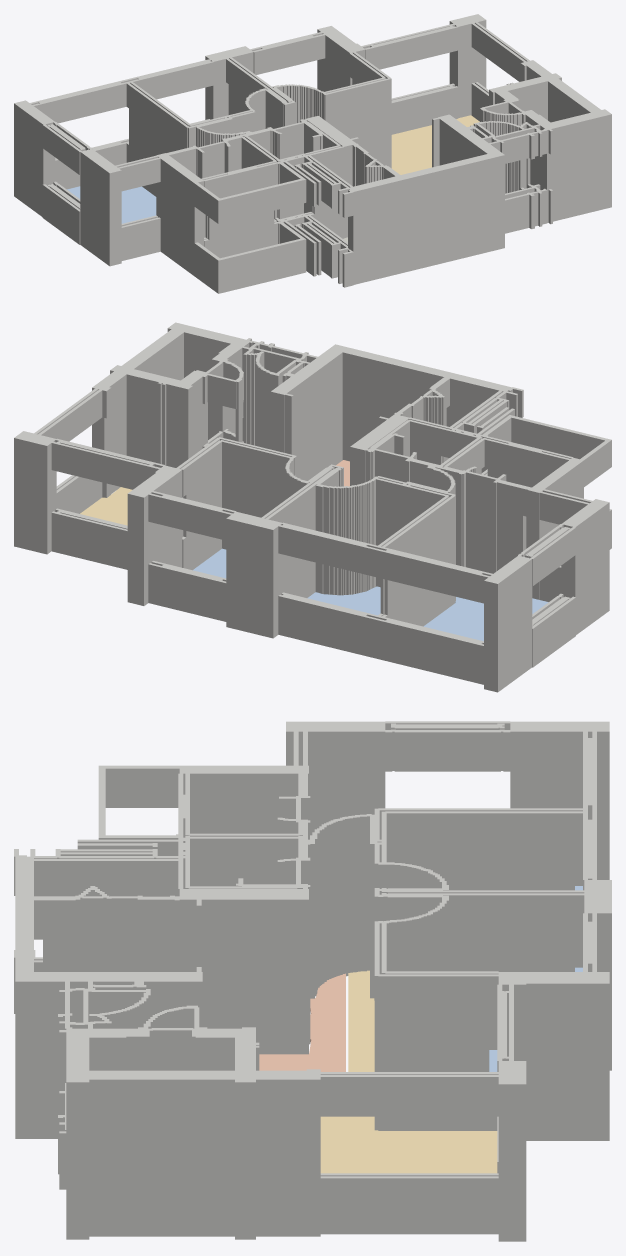
3 renders of one model, top to bottom at view 1: azimuth 30°, elevation 25°; view 2: azimuth 150°, elevation 25°; view 3: azimuth 270°, elevation 25°, orthographic. The views are drawn at different scales.
Parts seen in each view (by area): view 1: walls, room:living:3, room:bedroom:9; view 2: walls, room:bedroom:9, room:bedroom:2, room:living:3, room:bedroom:4; view 3: walls, room:living:3, room:kitchen:8.
Boxes of the visible parts, x1,y1,x2,y2 form: walls: (14,14,611,293); room:living:3: (391,115,479,174); room:bedroom:9: (67,186,156,223); walls: (14,322,611,692); room:bedroom:9: (423,597,548,641); room:bedroom:2: (307,586,380,615); room:living:3: (80,487,132,525); room:bedroom:4: (193,548,226,578); walls: (14,721,611,1241); room:living:3: (320,970,497,1173); room:kitchen:8: (259,973,345,1071).
Bounding box in the file's own units: 13.86 × 2.8 × 9.65.
